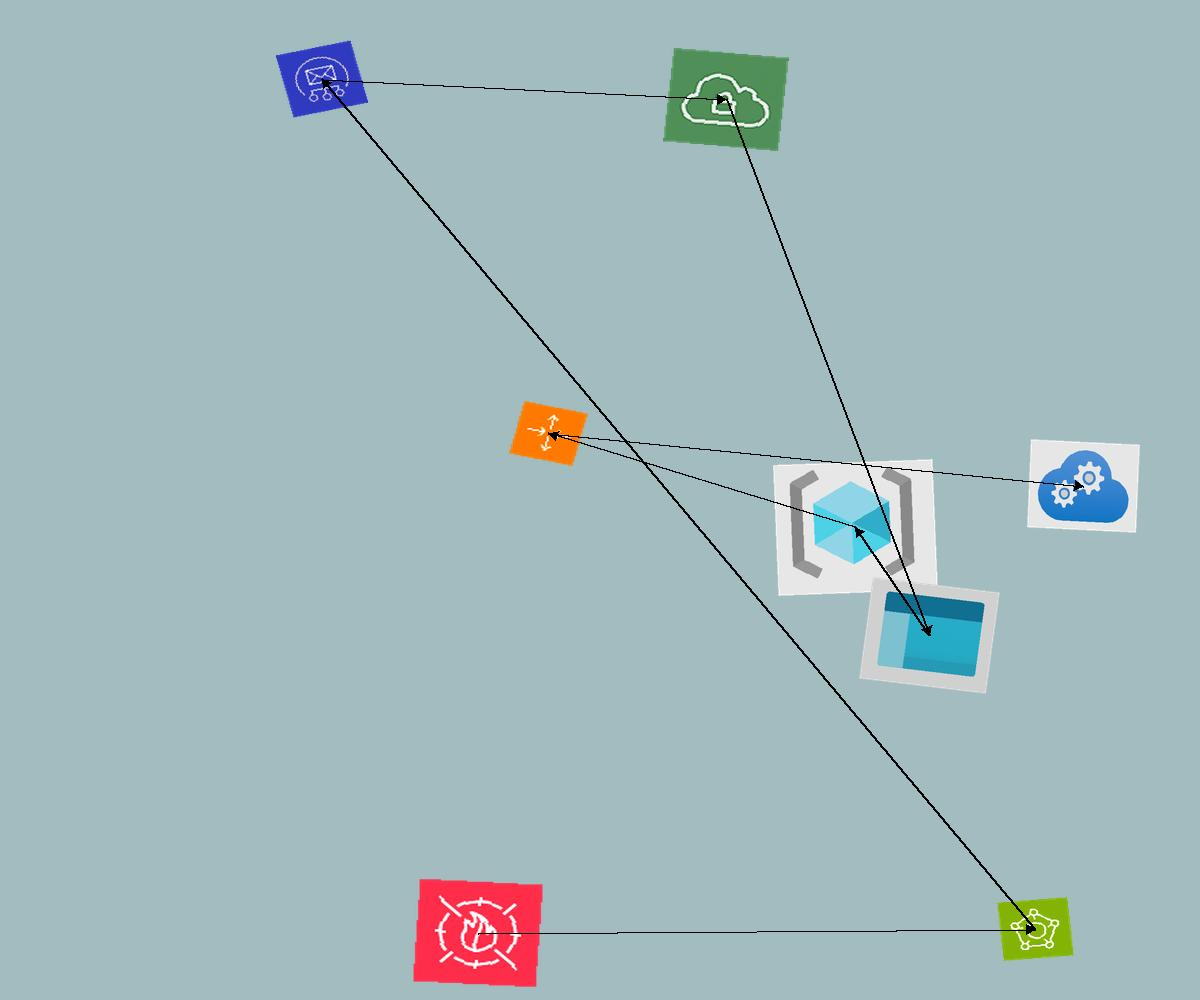AWS-Backup: (997, 897, 1074, 961)
AWS-Private_vpc: (663, 47, 789, 152)
AWS-Scaling-group: (508, 400, 589, 467)
AWS-Simple-Email-Service: (275, 40, 369, 118)
AWS-WAF: (412, 878, 544, 988)
Azure_cloud_services: (1027, 439, 1140, 533)
Azure_management-portal: (859, 577, 1000, 694)
Azure_resource_group: (773, 459, 938, 596)
